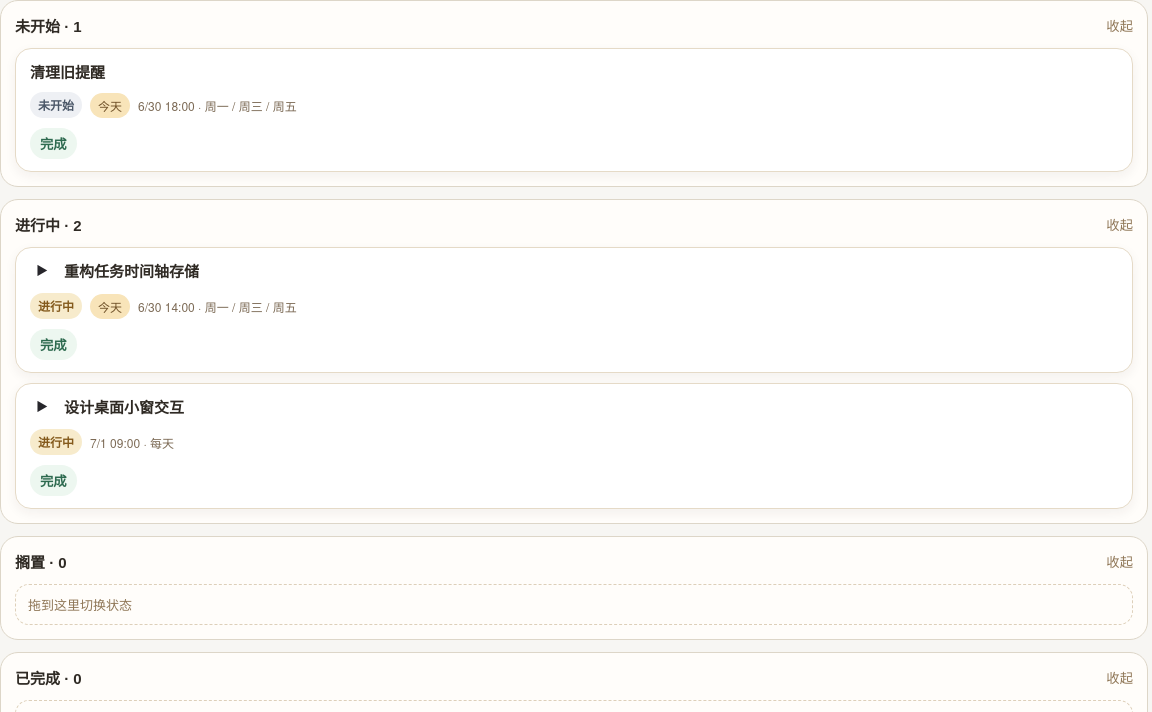
Test case: TaskLaneBoard › collapses lane body on toggle
The width and height of the screenshot is (1152, 712).
Click the button "进行中 · 2 收起" at point(38, 226), box x1=15 y1=214 x2=1133 y2=235
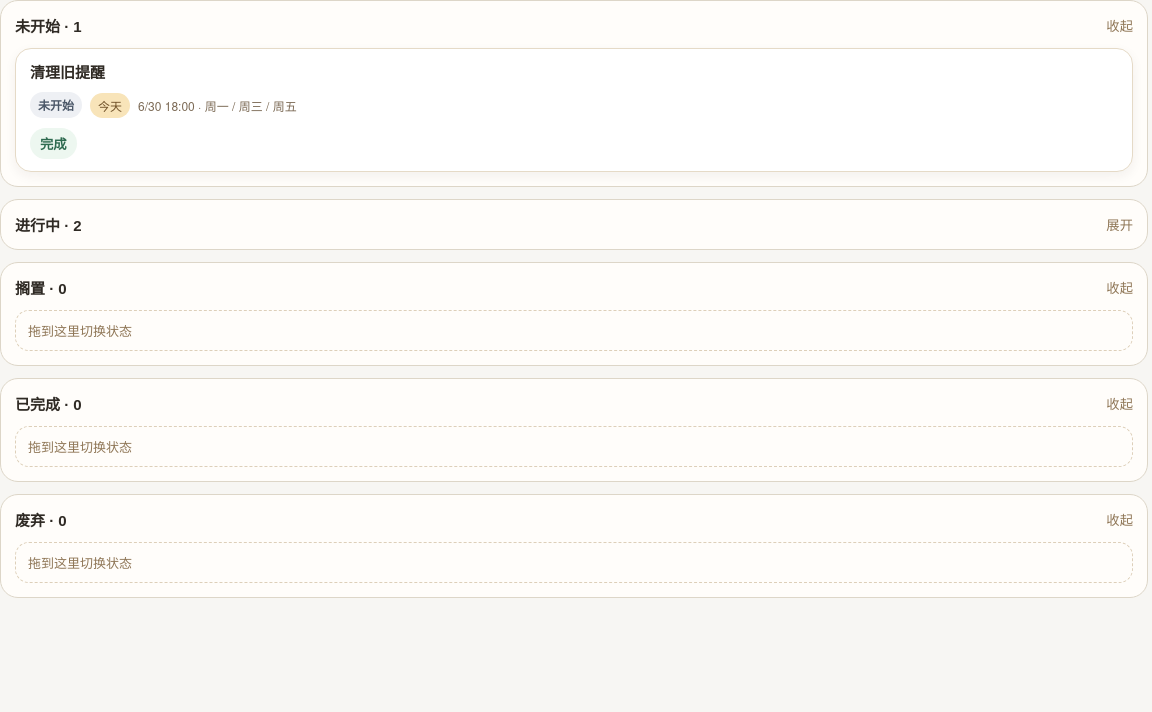
expect the button "重构任务时间轴存储" is gone: met
expect the button "设计桌面小窗交互" is gone: met
